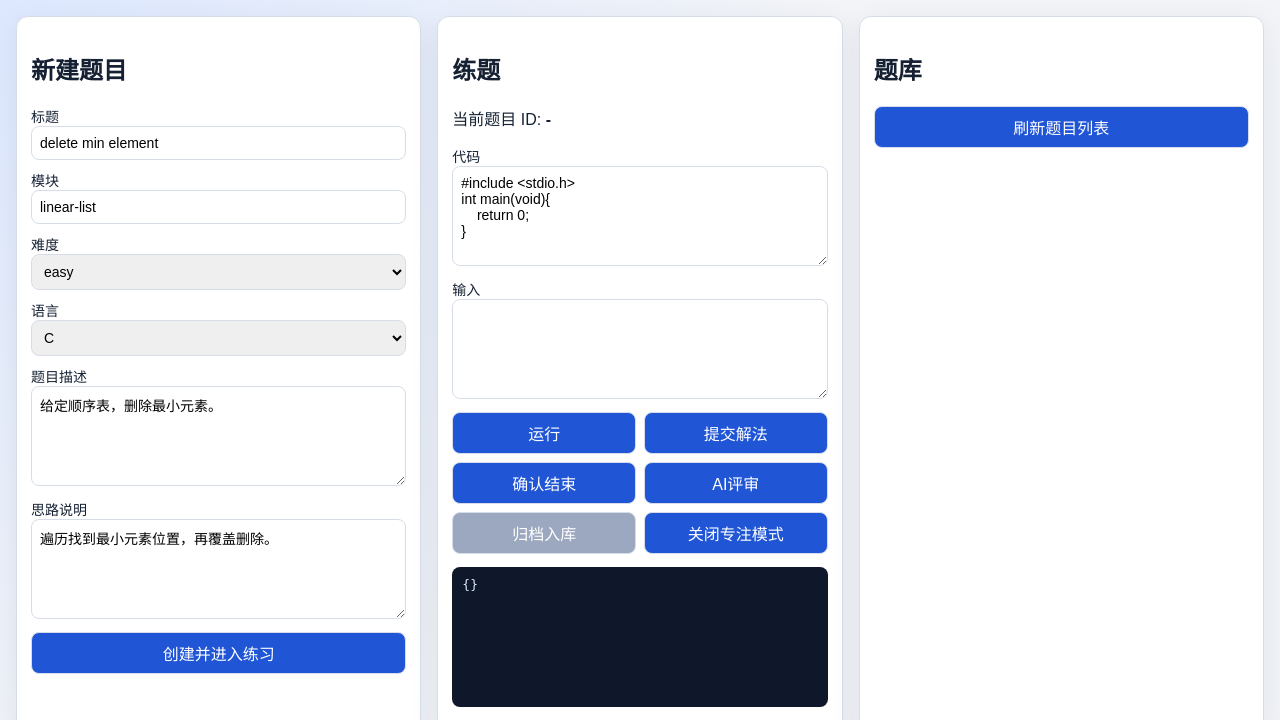
Test: archive button is disabled before finish and enabled after finish
The width and height of the screenshot is (1280, 720).
Expected: the button "归档入库" is disabled, [452,512,636,554]
Click the button "创建并进入练习" at [219, 653], box [31,632,406,674]
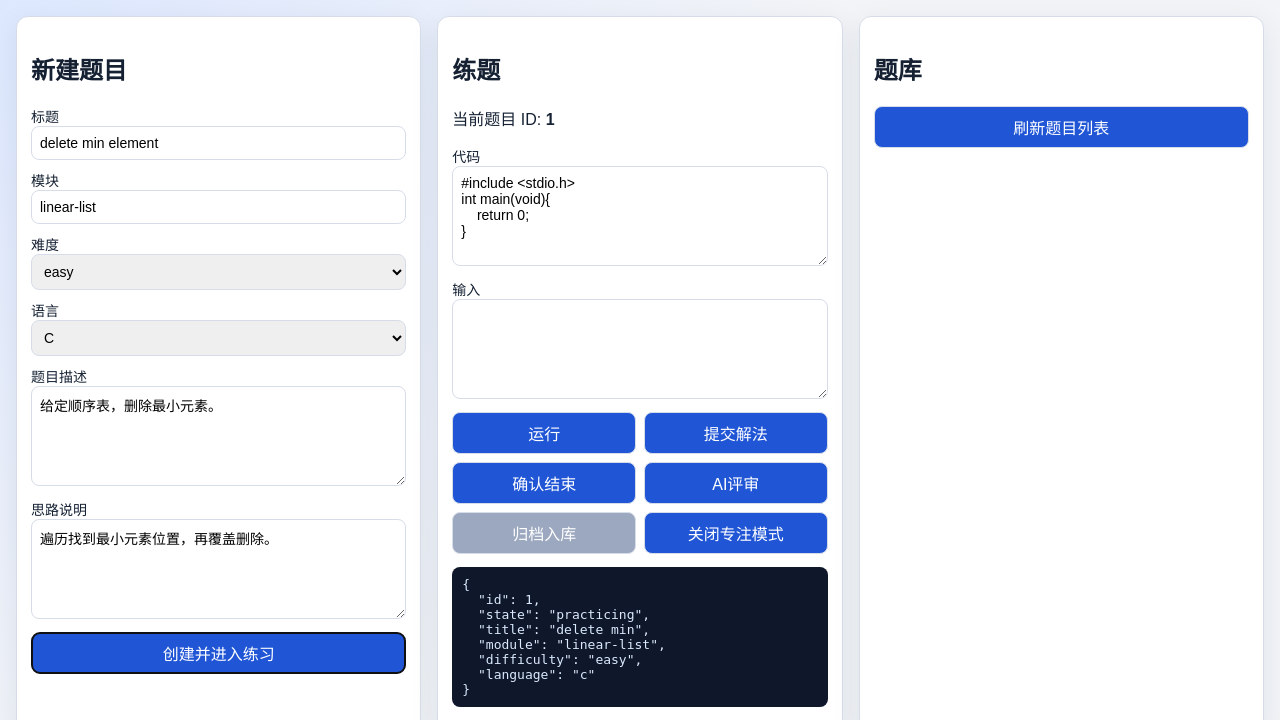
Click the button "确认结束" at [544, 483], box [452,462,636,504]
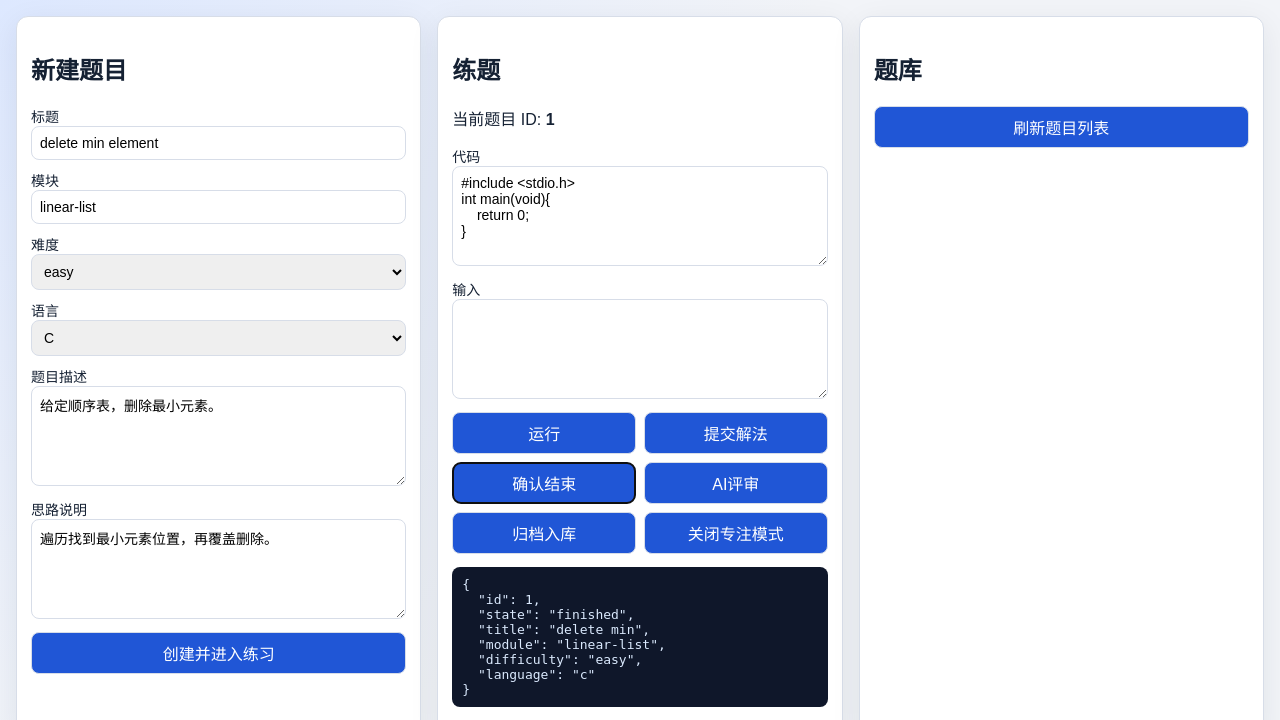
Now the button "归档入库" is enabled, box [452,512,636,554]
